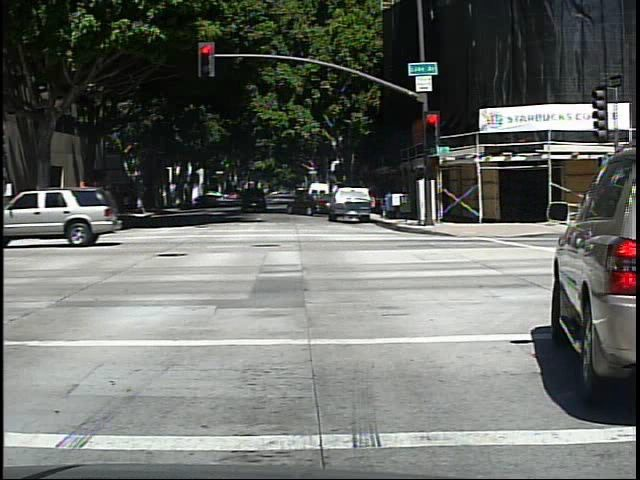person: (71, 186, 87, 223)
